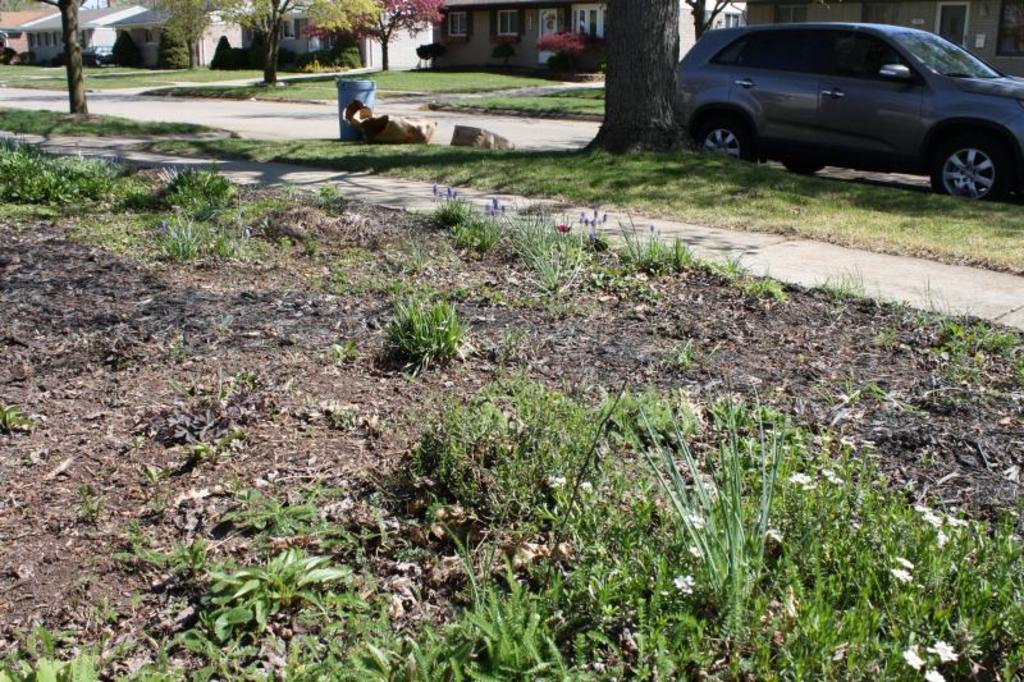Car: (673, 24, 1022, 199)
